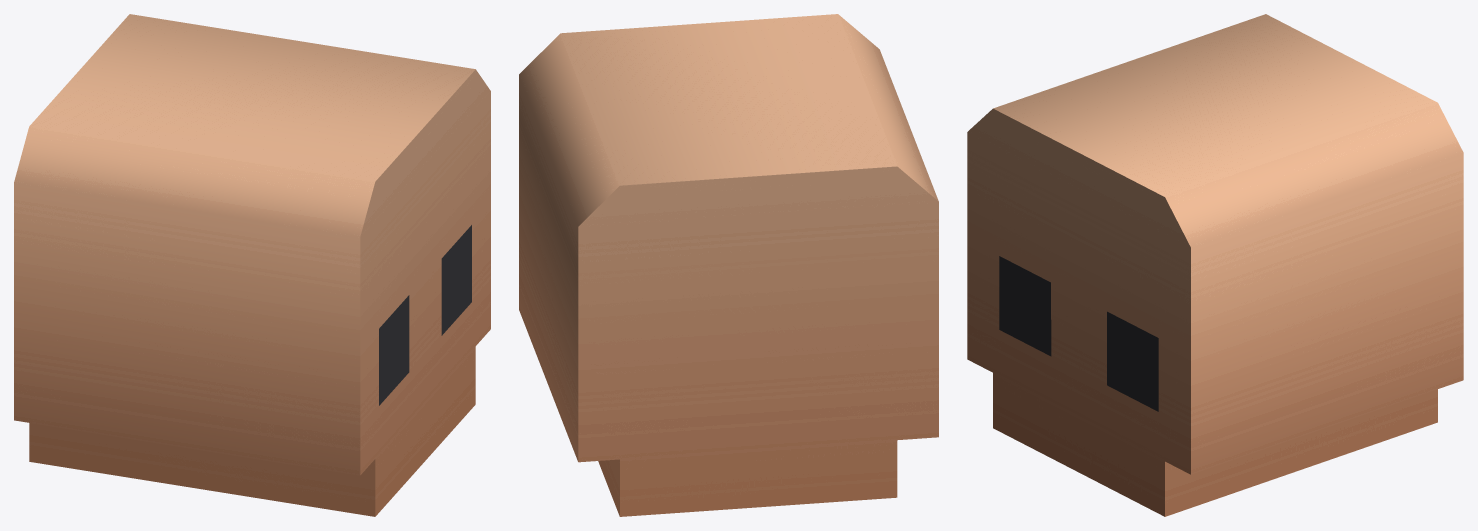
The model's file is head_lev2.glb.
The picture shows the model from 3 angles, left to right: view 1: azimuth 30°, elevation 25°; view 2: azimuth 150°, elevation 25°; view 3: azimuth 270°, elevation 25°; orthographic projection. The views are drawn at different scales.
Visible parts, largest first — view 1: head_lev2; view 2: head_lev2; view 3: head_lev2.
Boxes of the visible parts, box(x1,y1,x2,y2) form: head_lev2: box(14, 14, 490, 516); head_lev2: box(519, 14, 938, 516); head_lev2: box(967, 14, 1463, 516).
Size of the model in its own units: 1.29 by 0.9194 by 1.29.
Materials: 1 (1 with a texture image).
